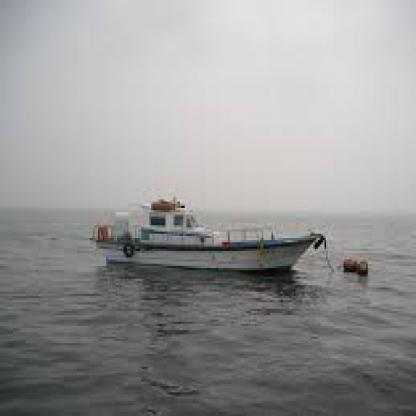fish-b: (82, 184, 336, 294)
